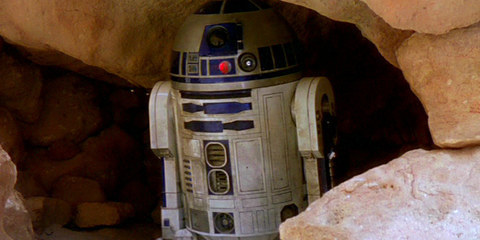r2d2: (149, 2, 334, 189)
